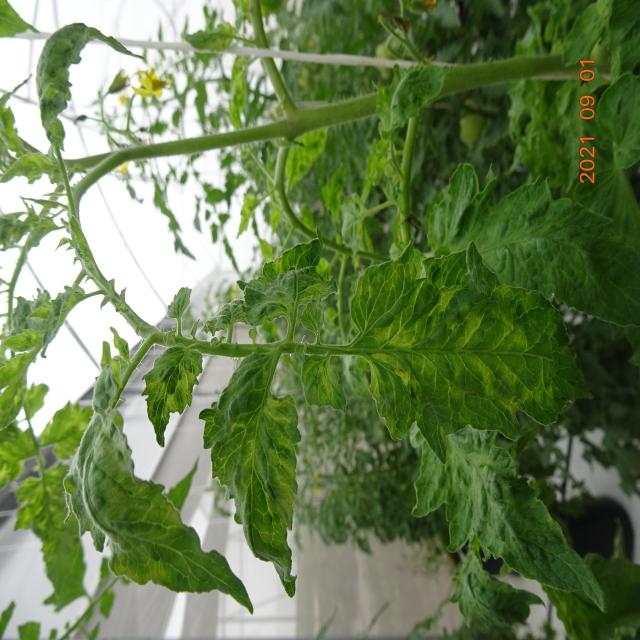T_L_R: (346, 244, 586, 463), (65, 348, 254, 611), (201, 349, 301, 596), (144, 348, 204, 448)
